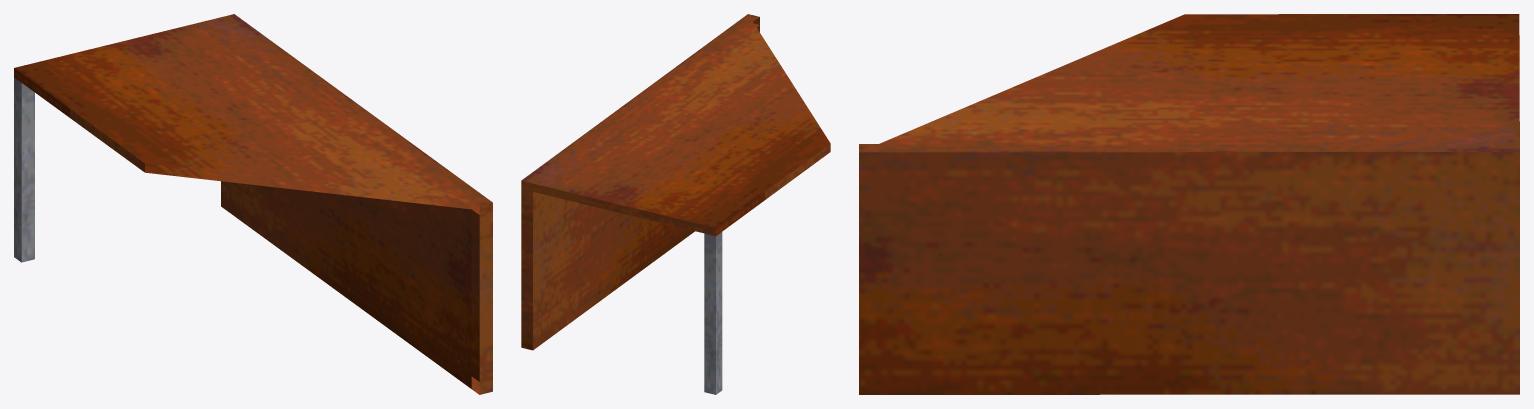
Rendered from desk_corner_02.fbx.
3 views of the same model, side by side, from view 1: azimuth 30°, elevation 25°; view 2: azimuth 150°, elevation 25°; view 3: azimuth 270°, elevation 25° (orthographic). The views are drawn at different scales.
Parts seen in each view (by area): view 1: polySurface10; view 2: polySurface10; view 3: polySurface10.
Boxes of the visible parts, bbox=[...] form: polySurface10: bbox=[14, 14, 492, 394]; polySurface10: bbox=[521, 14, 830, 394]; polySurface10: bbox=[859, 14, 1519, 394].
Size of the model in its own units: 109 by 89.11 by 220.
